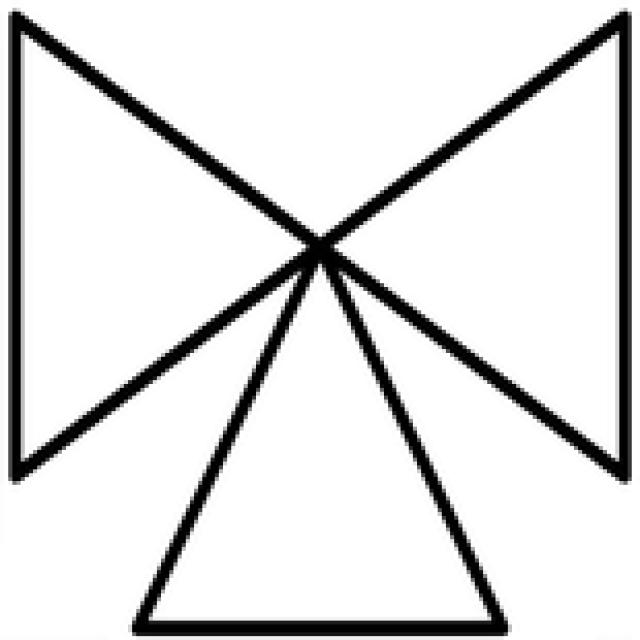3-way Valve: (12, 12, 628, 632)
